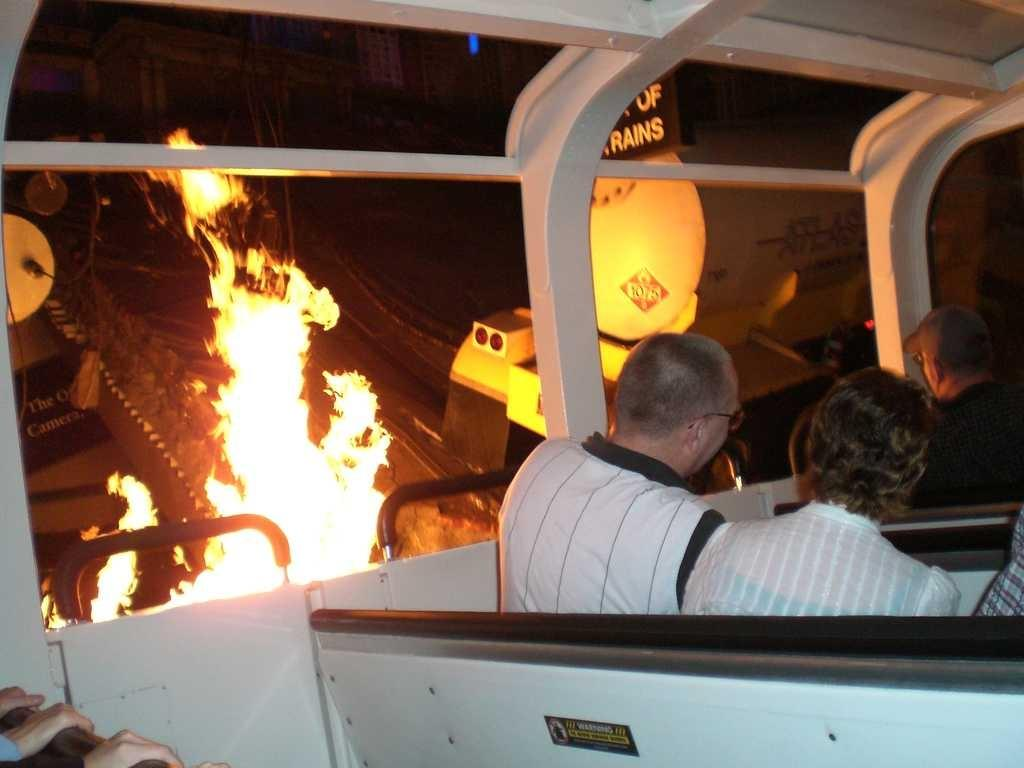fire: (246, 450, 370, 570), (222, 306, 306, 448), (100, 550, 140, 616), (186, 172, 238, 214)
